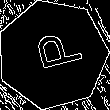P_W: (23, 30, 82, 79)
